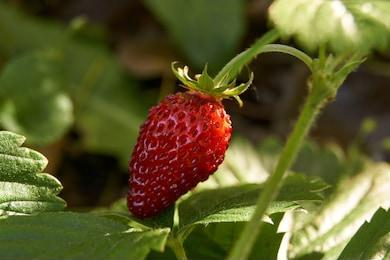Fresa: (120, 77, 246, 224)
